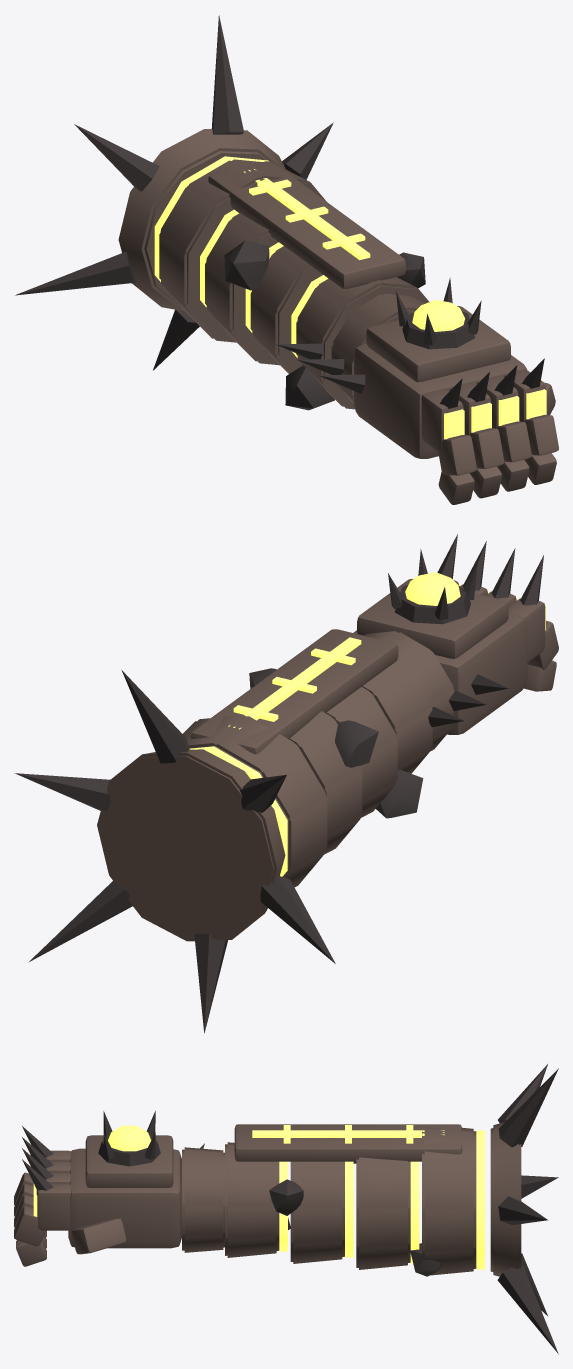
File: VolcanicGauntlets.fbx
3 renders of one model, top to bottom at view 1: azimuth 30°, elevation 25°; view 2: azimuth 150°, elevation 25°; view 3: azimuth 270°, elevation 25°, orthographic. The views are drawn at different scales.
Parts seen in each view (by area): view 1: Armor, Rock, Glow; view 2: Armor, Rock, Glow; view 3: Armor, Rock, Glow.
Part boxes in pixels (x1,y1,x2,y2): Armor: (118, 129, 558, 504); Rock: (15, 15, 544, 410); Glow: (154, 156, 546, 439); Armor: (97, 579, 558, 941); Rock: (14, 534, 543, 1033); Glow: (189, 572, 545, 876); Armor: (14, 1122, 521, 1276); Rock: (22, 1064, 558, 1354); Glow: (33, 1125, 484, 1269).
Bounding box in the file's own units: 344 × 351 × 622.
